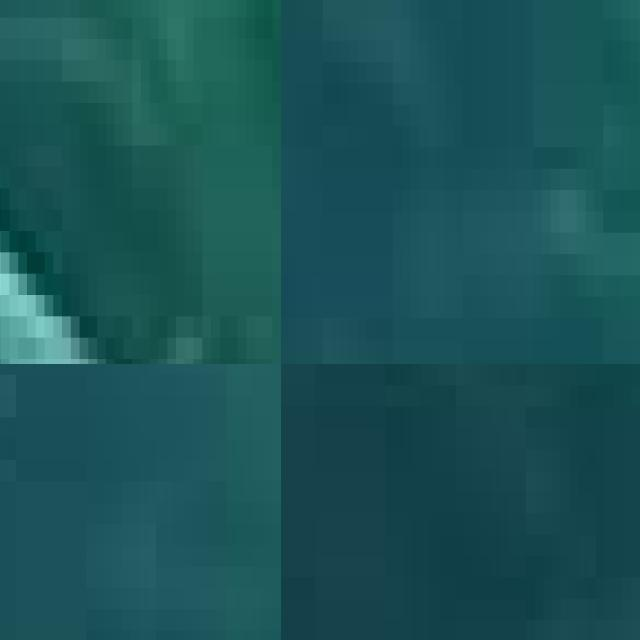fish: (0, 0, 281, 364)
